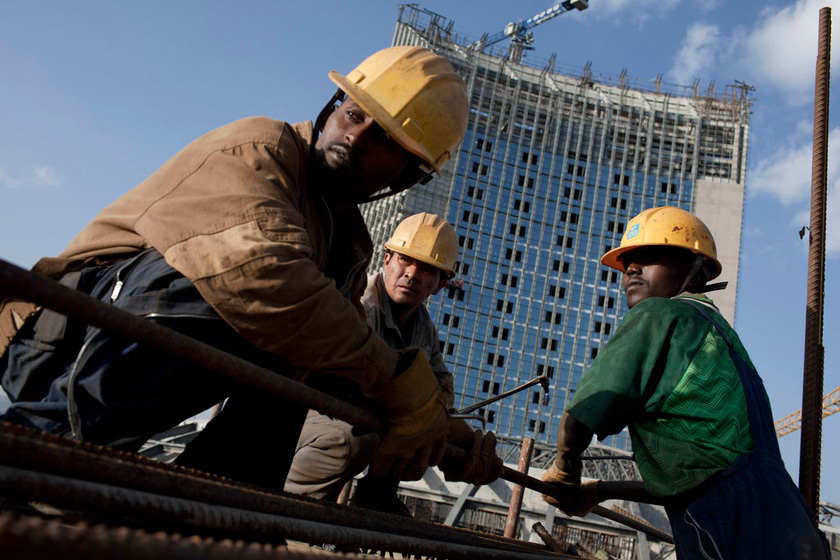safetyhat: (36, 18, 511, 329), (576, 191, 789, 521), (351, 211, 501, 355)
